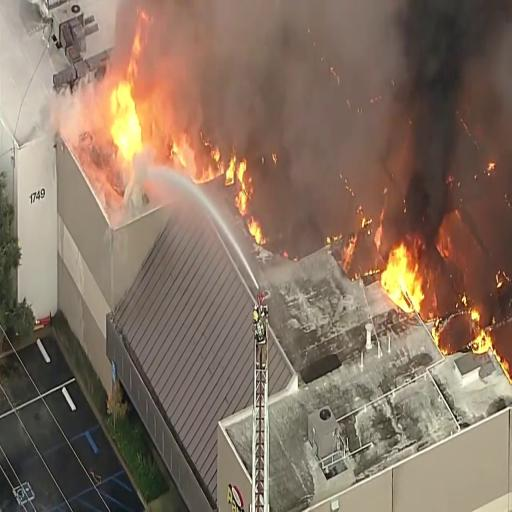fire: (380, 240, 426, 306), (112, 82, 144, 153)
smoke: (401, 0, 488, 240)
